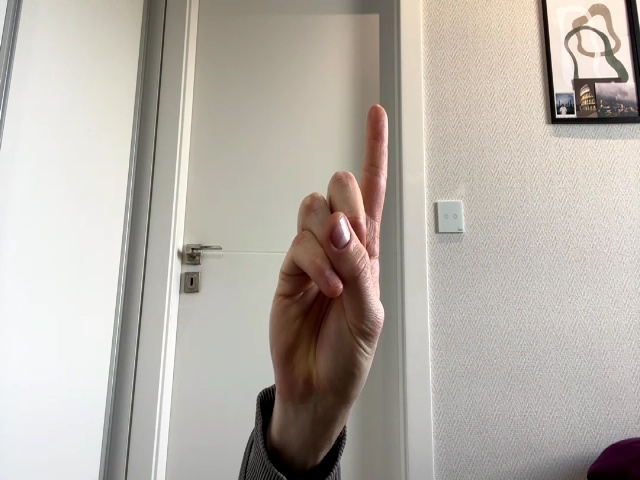Z: (269, 105, 388, 407)
